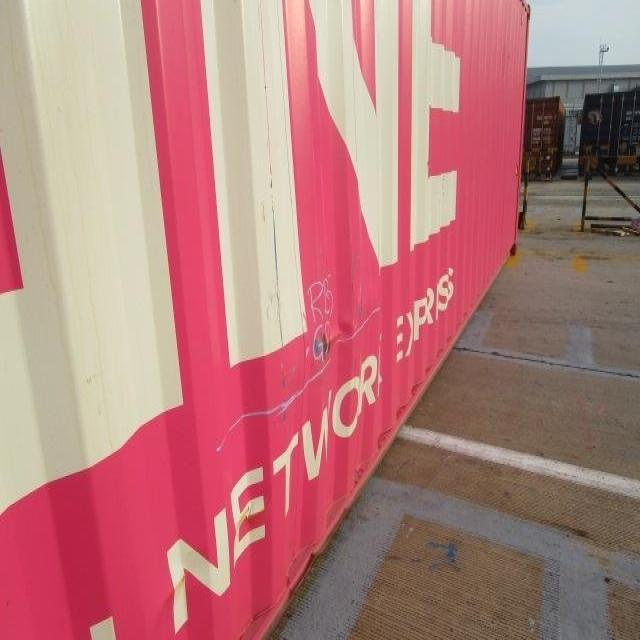dent: (292, 297, 370, 382)
